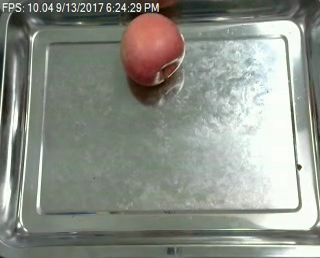Apple: (118, 6, 185, 93)
